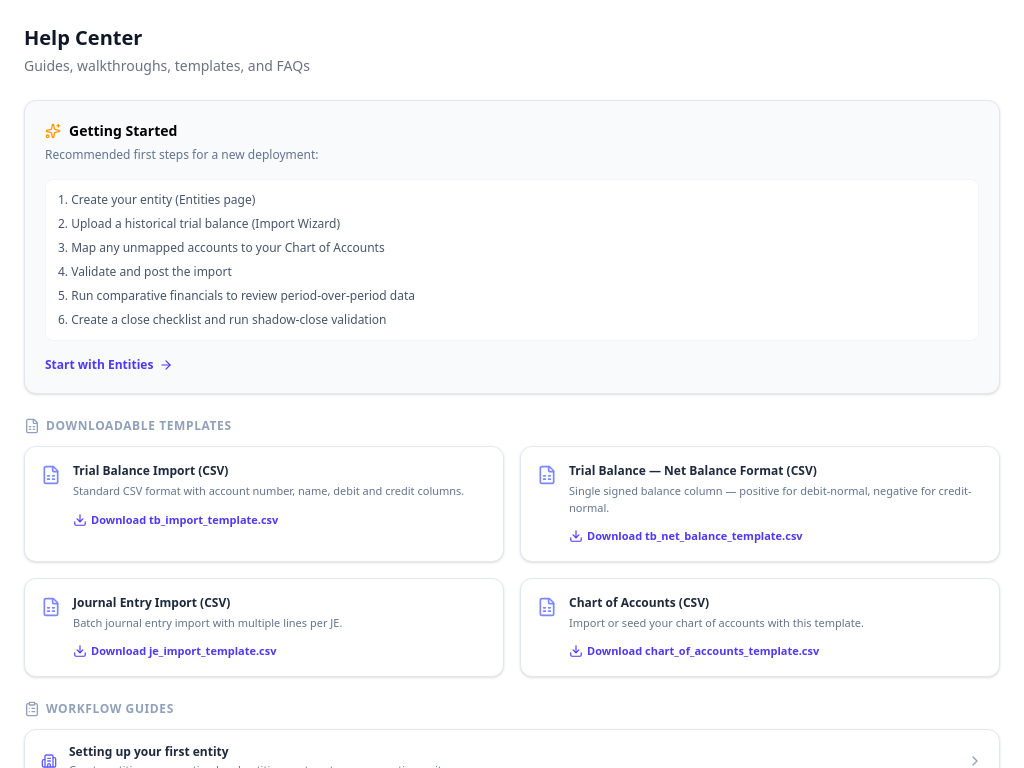
Test: HelpCenterPage › expands a guide on click
This screenshot has width=1024, height=768.
Click the text "Setting up your first entity". click: {"x": 149, "y": 751}
box: [69, 742, 229, 760]
(page scrolled)
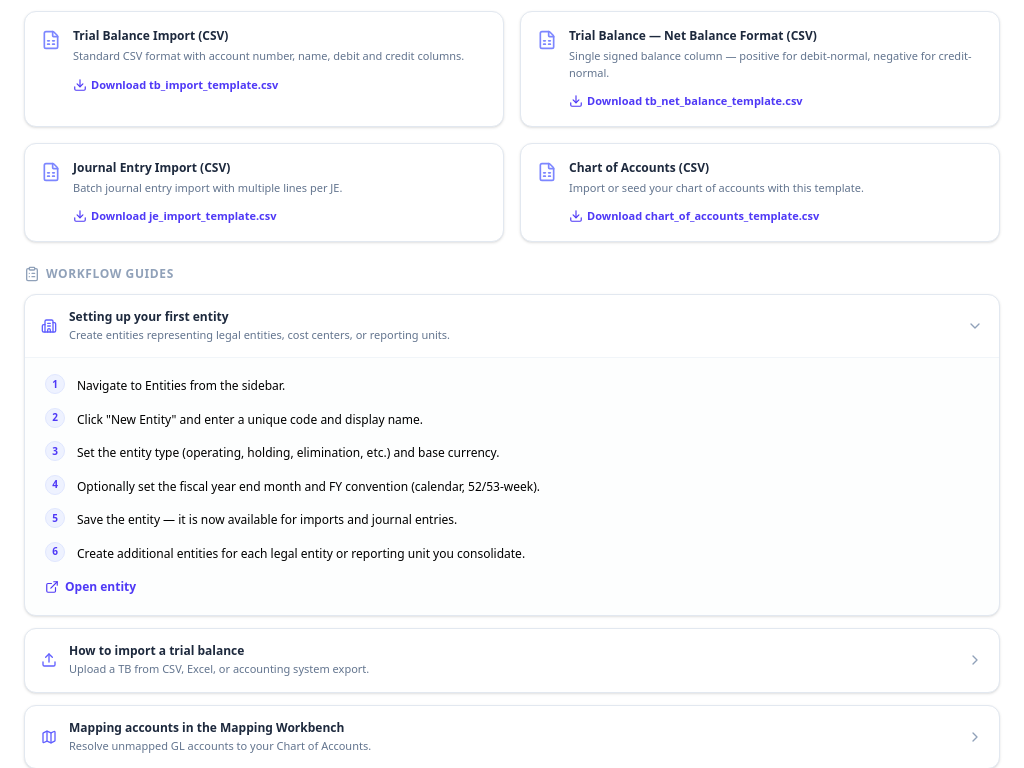
Check: the text "Navigate to Entities from the sidebar." is shown, box [77, 377, 285, 394]
